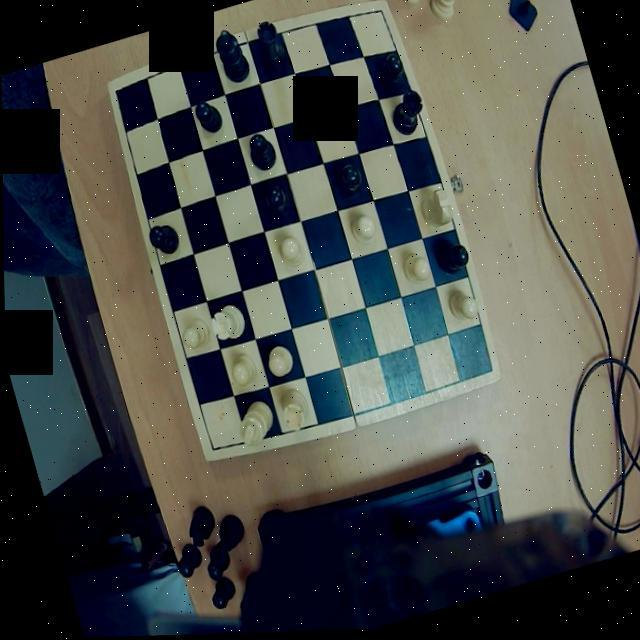chess-table-corners: (472, 356, 499, 387), (201, 436, 227, 464), (106, 78, 128, 110), (366, 0, 388, 27)
